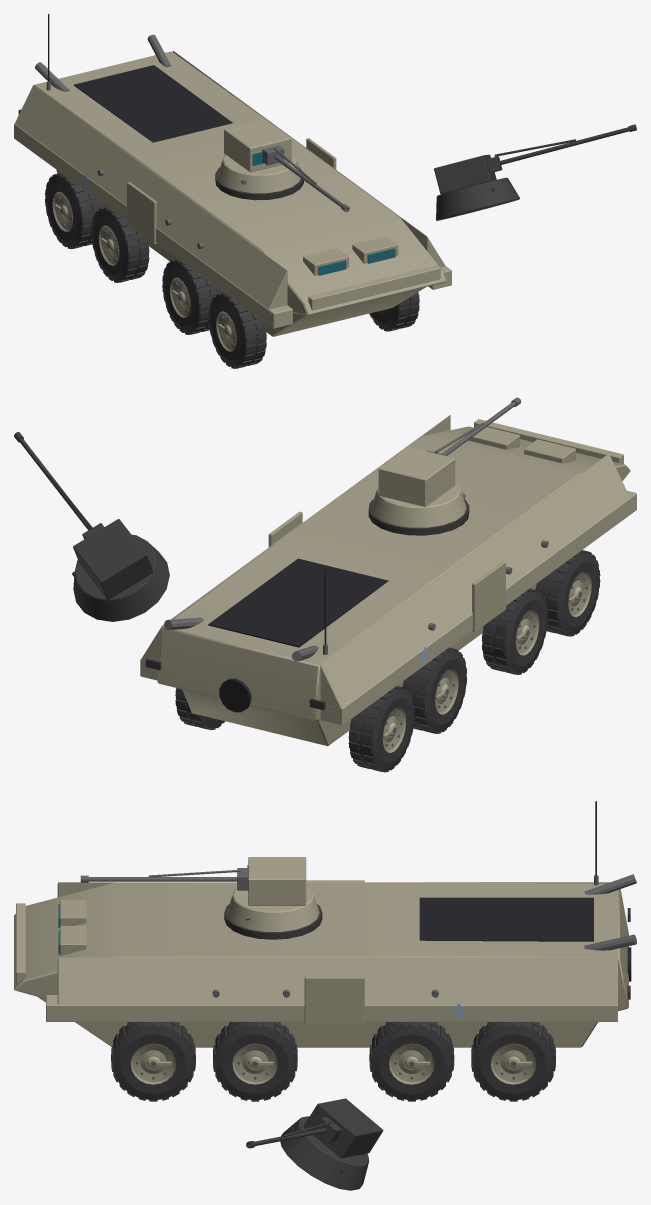
File: apc__btr_82a.glb
3 renders of one model, top to bottom at view 1: azimuth 30°, elevation 25°; view 2: azimuth 150°, elevation 25°; view 3: azimuth 270°, elevation 25°, orthographic. The views are drawn at different scales.
Parts seen in each view (by area): view 1: Hull_Mesh, Wreck, Turret_Mesh, Wheel_L3_Mesh, Wheel_L1_Mesh, Wheel_L2_Mesh, Wheel_L0_Mesh, Wheel_R3_Mesh, Gun_Mesh; view 2: Hull_Mesh, Wreck, Turret_Mesh, Wheel_L0_Mesh, Wheel_L2_Mesh, Wheel_L3_Mesh, Wheel_L1_Mesh, Wheel_R0_Mesh, Gun_Mesh; view 3: Hull_Mesh, Wreck, Wheel_R3_Mesh, Wheel_R0_Mesh, Wheel_R1_Mesh, Wheel_R2_Mesh, Turret_Mesh, Gun_Mesh.
Boxes of the visible parts, <box> form: Hull_Mesh: <box>14,14,451,336</box>; Wreck: <box>76,124,636,367</box>; Turret_Mesh: <box>217,119,300,193</box>; Wheel_L3_Mesh: <box>208,292,266,368</box>; Wheel_L1_Mesh: <box>91,206,149,282</box>; Wheel_L2_Mesh: <box>162,258,219,334</box>; Wheel_L0_Mesh: <box>45,172,101,248</box>; Wheel_R3_Mesh: <box>369,292,419,331</box>; Gun_Mesh: <box>262,145,349,212</box>; Hull_Mesh: <box>140,415,636,746</box>; Wreck: <box>14,432,567,732</box>; Turret_Mesh: <box>371,447,466,527</box>; Wheel_L0_Mesh: <box>348,686,414,772</box>; Wheel_L2_Mesh: <box>481,588,547,674</box>; Wheel_L3_Mesh: <box>535,550,600,636</box>; Wheel_L1_Mesh: <box>402,647,466,733</box>; Wheel_R0_Mesh: <box>175,688,224,730</box>; Gun_Mesh: <box>427,397,521,456</box>; Hull_Mesh: <box>14,801,636,1047</box>; Wreck: <box>172,904,538,1190</box>; Wheel_R3_Mesh: <box>111,1022,195,1101</box>; Wheel_R0_Mesh: <box>471,1022,555,1101</box>; Wheel_R1_Mesh: <box>369,1022,454,1101</box>; Wheel_R2_Mesh: <box>213,1022,297,1101</box>; Turret_Mesh: <box>227,857,319,931</box>; Gun_Mesh: <box>80,868,248,890</box>.
Size of what is drawn, in the model's own units: 7.44 by 3.09 by 7.96.
